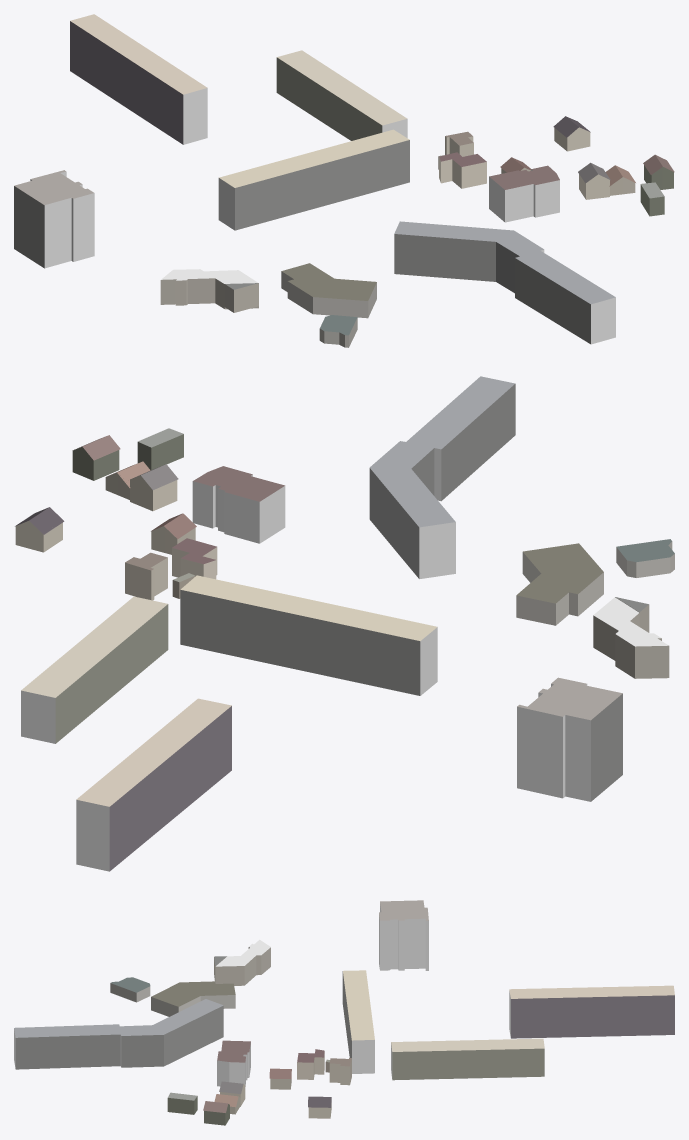
The picture shows the model from 3 angles, top to bottom: view 1: azimuth 30°, elevation 25°; view 2: azimuth 150°, elevation 25°; view 3: azimuth 270°, elevation 25°; orthographic projection. The views are drawn at different scales.
Parts seen in each view (by area): view 1: tuile; view 2: tuile; view 3: tuile.
Part boxes in pixels (x1,y1,x2,y2): tuile: [14, 14, 674, 347]; tuile: [15, 376, 674, 871]; tuile: [14, 900, 674, 1125].
Size of the model in its own units: 239 by 27.37 by 328.
